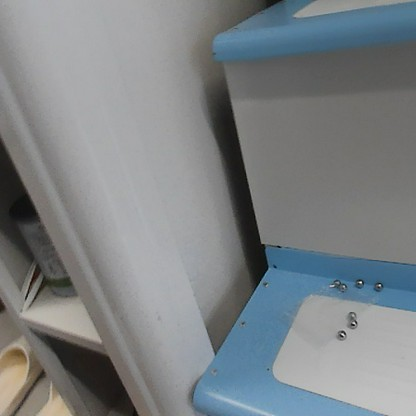ironball: (353, 275, 366, 290), (373, 280, 386, 293), (346, 308, 358, 320), (334, 328, 346, 340), (335, 282, 349, 291), (348, 319, 358, 329), (330, 276, 340, 285)
